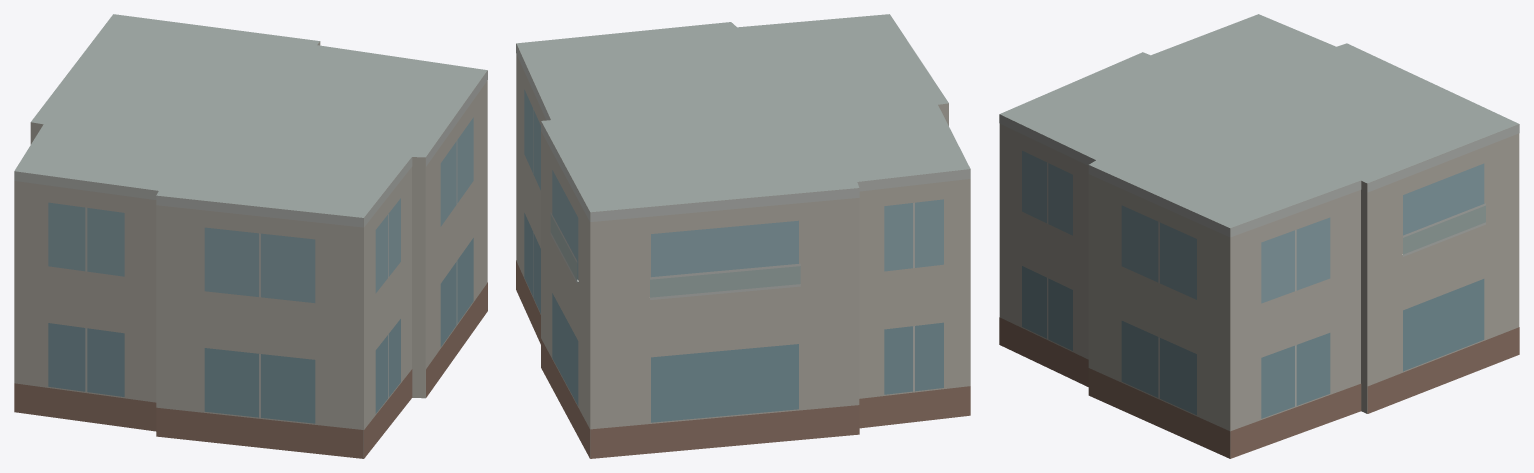
Rendered from survey-upis-32660005.glb.
3 renders of one model, left to right at view 1: azimuth 30°, elevation 25°; view 2: azimuth 150°, elevation 25°; view 3: azimuth 270°, elevation 25°, orthographic. The views are drawn at different scales.
Parts seen in each view (by area): view 1: survey-upis-32660005.tmp; view 2: survey-upis-32660005.tmp; view 3: survey-upis-32660005.tmp.
Boxes of the visible parts, box(x1,y1,x2,y2) form: survey-upis-32660005.tmp: box(14, 14, 487, 458); survey-upis-32660005.tmp: box(516, 14, 970, 458); survey-upis-32660005.tmp: box(999, 14, 1519, 458).
Size of the model in its own units: 12.16 by 6.1 by 12.48.
